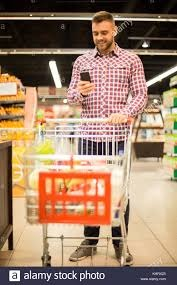with_basket: (18, 115, 135, 267)
without_mask: (91, 12, 115, 53)
